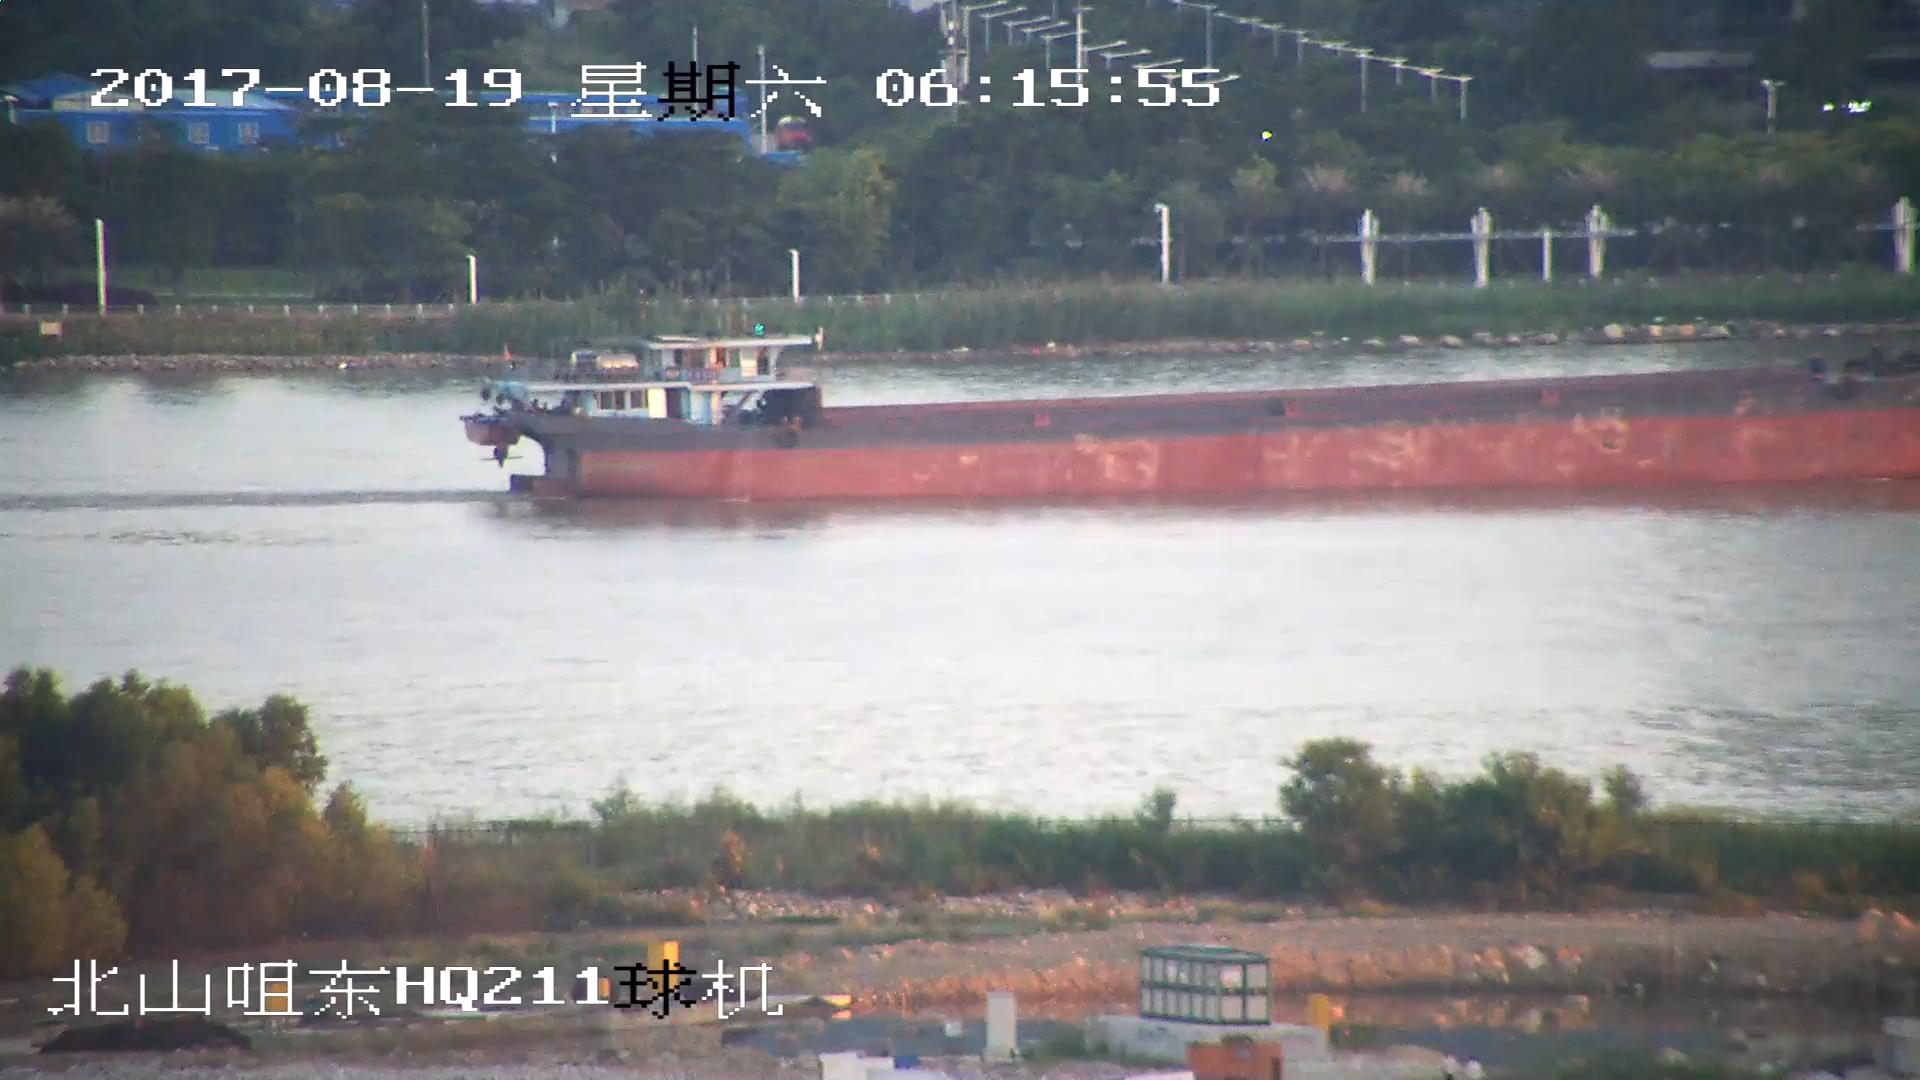bulk cargo carrier: (465, 328, 1920, 504)
